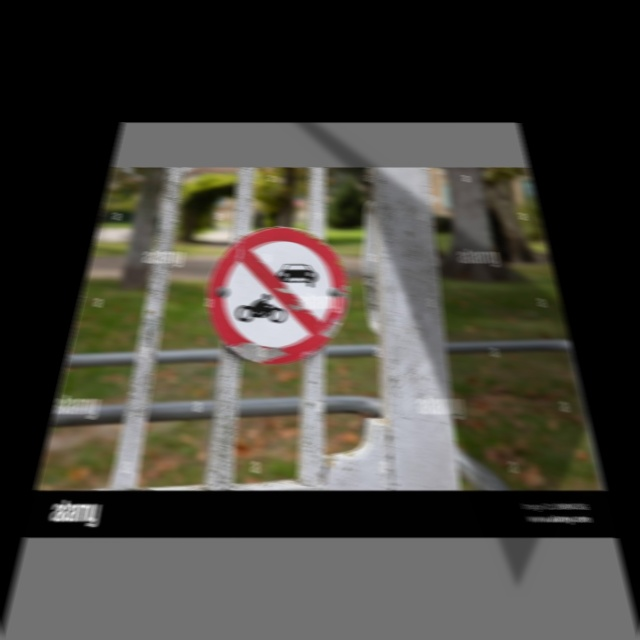All_Motor_Vehicles_Prohibited: (197, 228, 346, 366)
